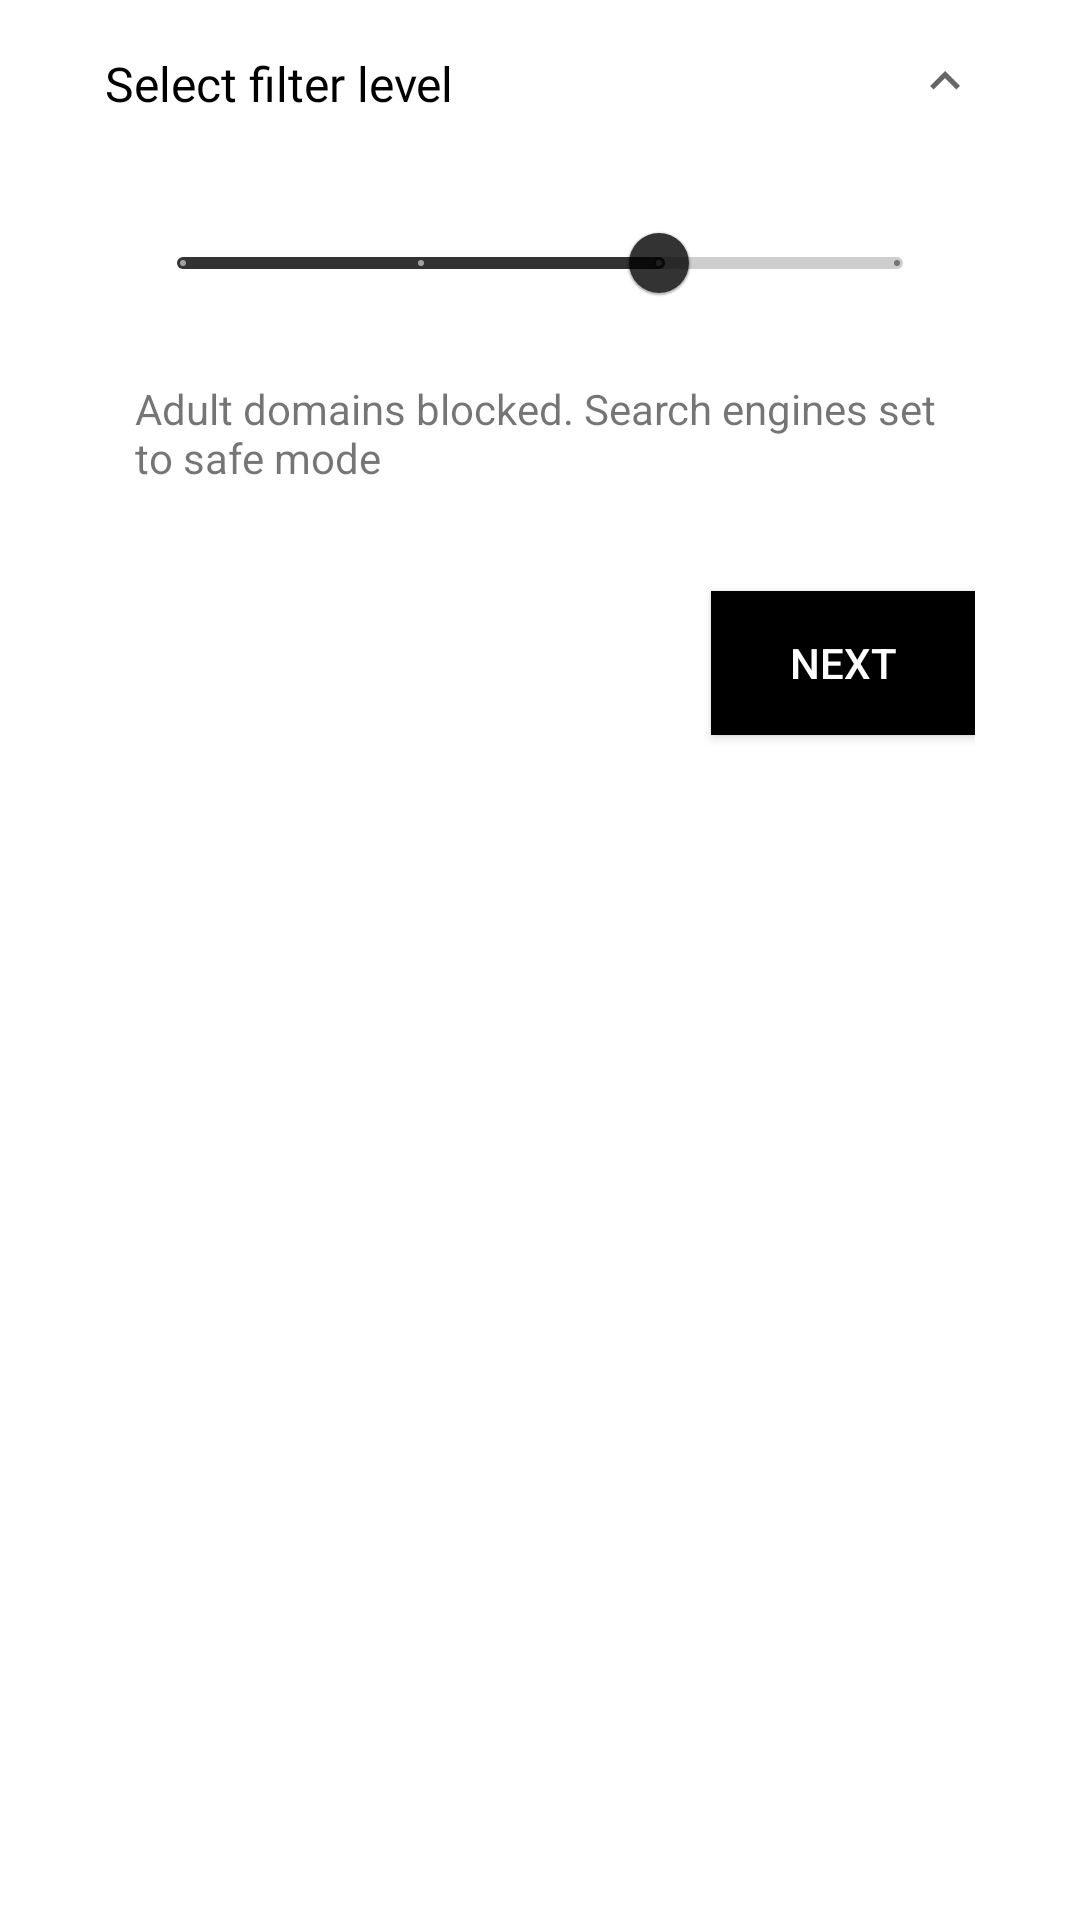

Icon bounding boxes for this 1080*1920 phone screenshot, format (x1, y1, x2, y2):
expand less: (930, 71, 960, 90)
